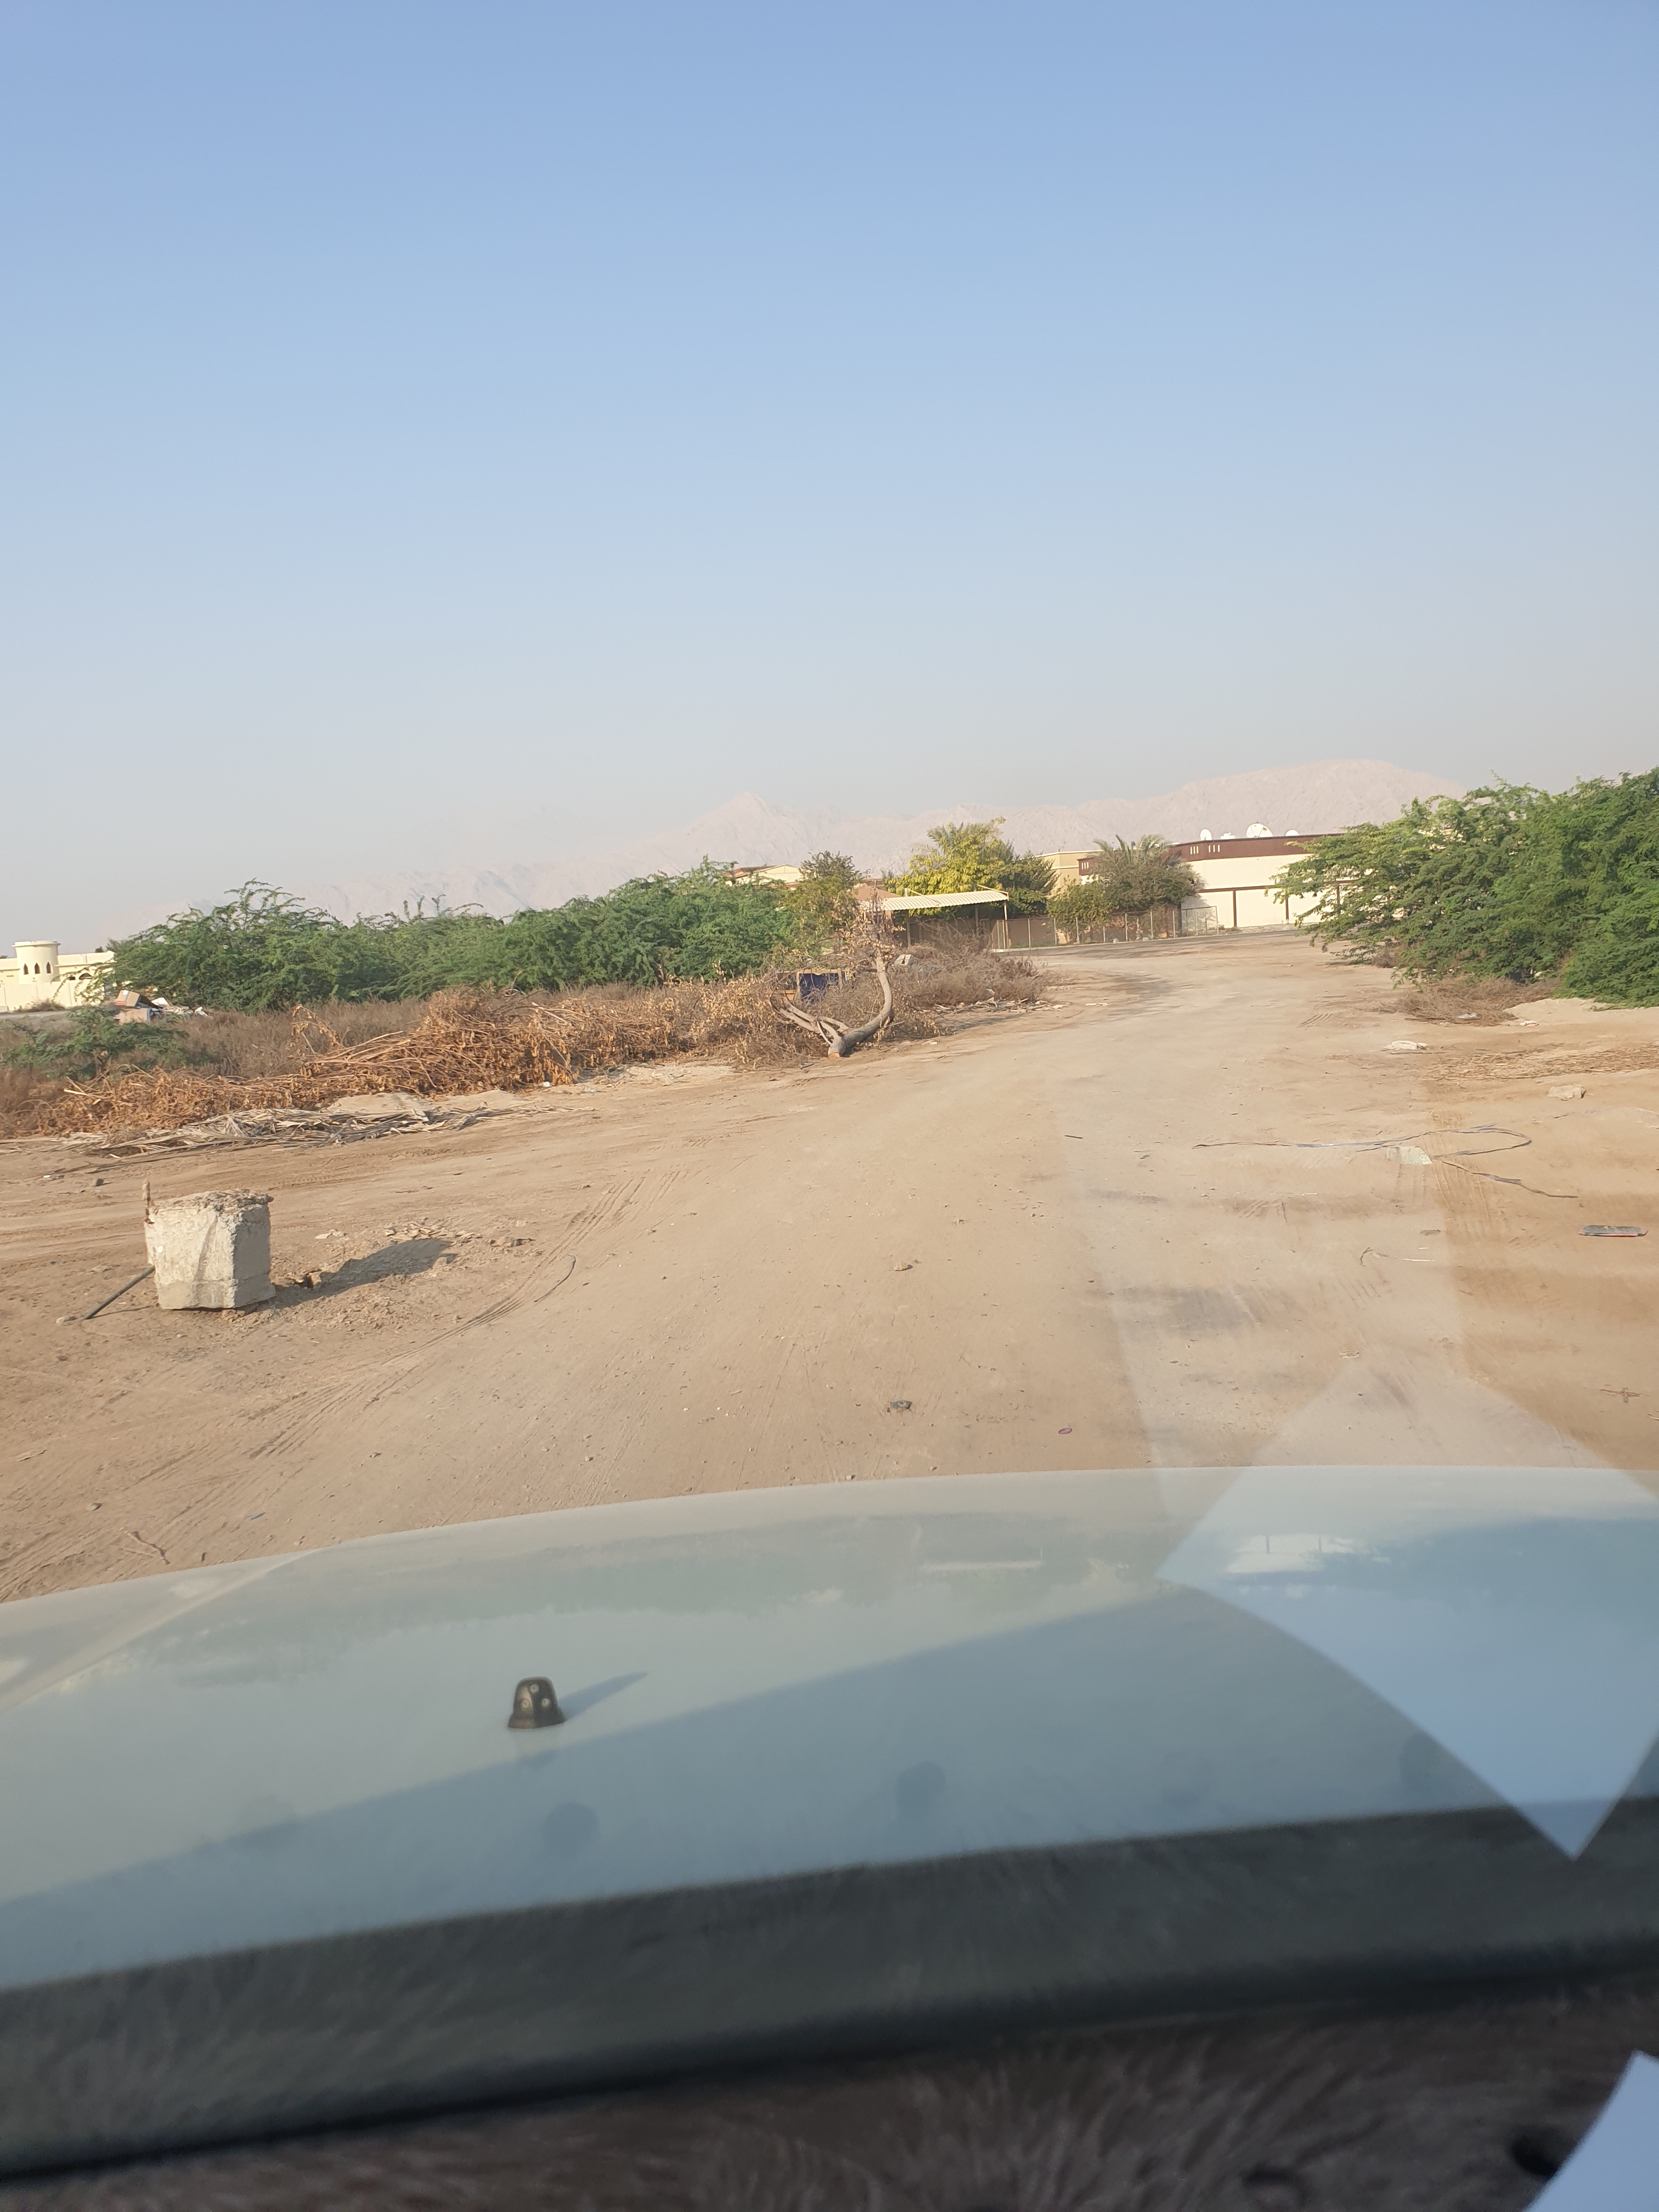fallen_trees: (746, 1000, 924, 1090), (509, 1040, 718, 1111), (650, 1019, 800, 1101), (962, 991, 1080, 1026)
